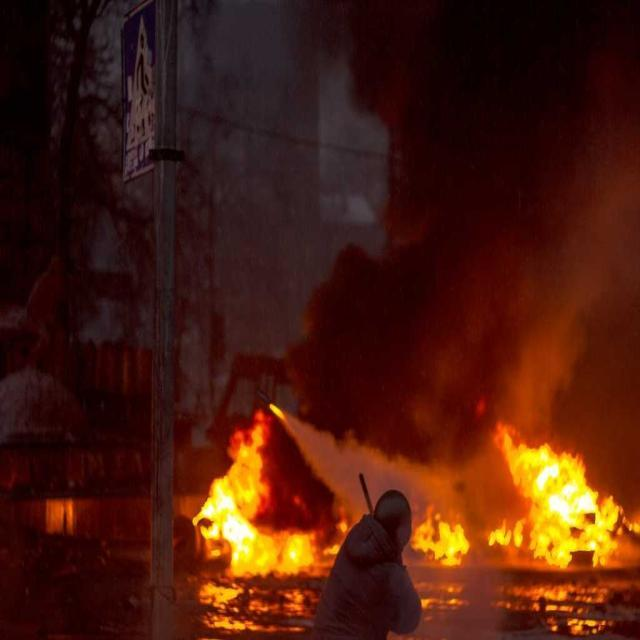Fire: (531, 477, 574, 558), (214, 491, 256, 544), (264, 538, 312, 568)
